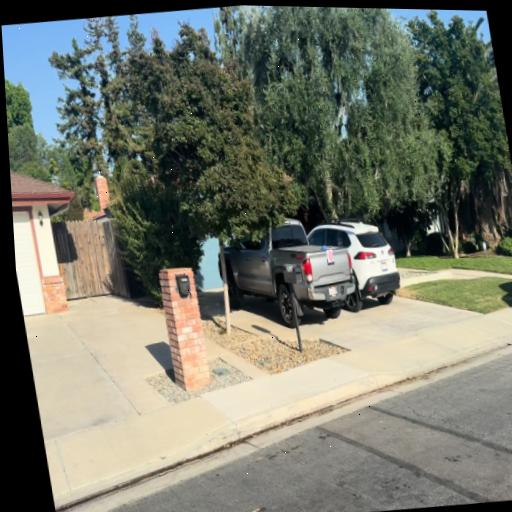bullseye: (326, 250, 334, 263)
